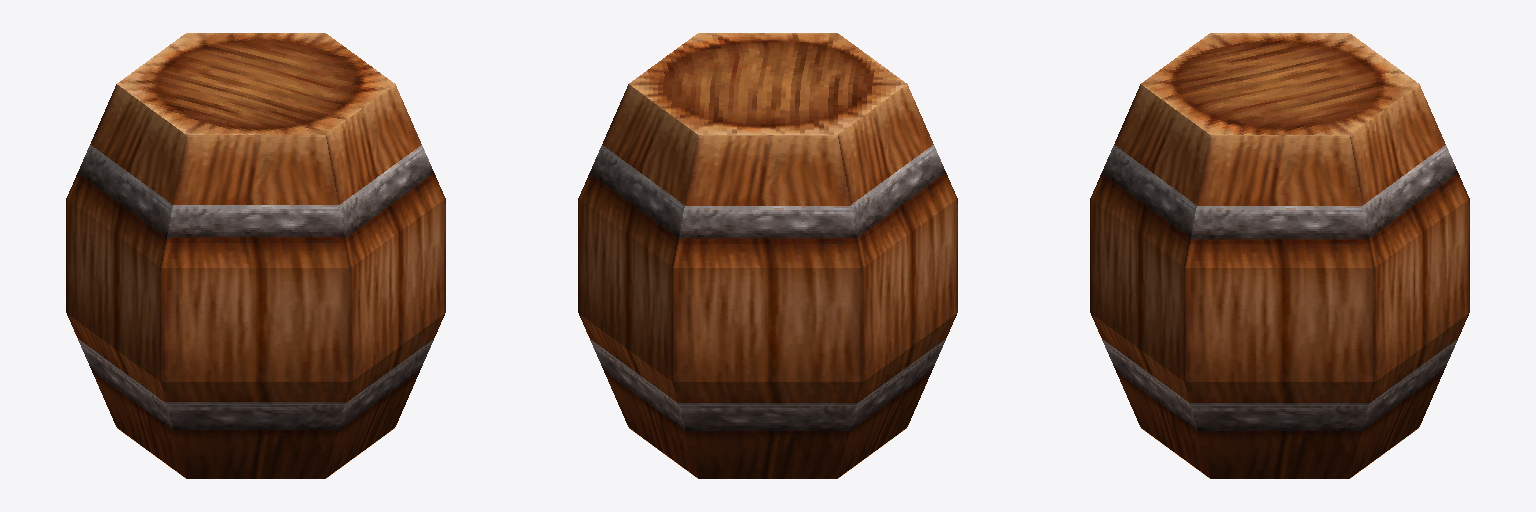
3 renders of one model, left to right at view 1: azimuth 30°, elevation 25°; view 2: azimuth 150°, elevation 25°; view 3: azimuth 270°, elevation 25°, orthographic.
Parts seen in each view (by area): view 1: barrel01.m2; view 2: barrel01.m2; view 3: barrel01.m2.
Boxes of the visible parts, box(x1,y1,x2,y2) form: barrel01.m2: box(66, 33, 445, 478); barrel01.m2: box(578, 33, 957, 478); barrel01.m2: box(1090, 33, 1469, 478).
Bounding box in the file's own units: 0.8592 × 0.9933 × 0.9921.
Materials: 1 (1 with a texture image).